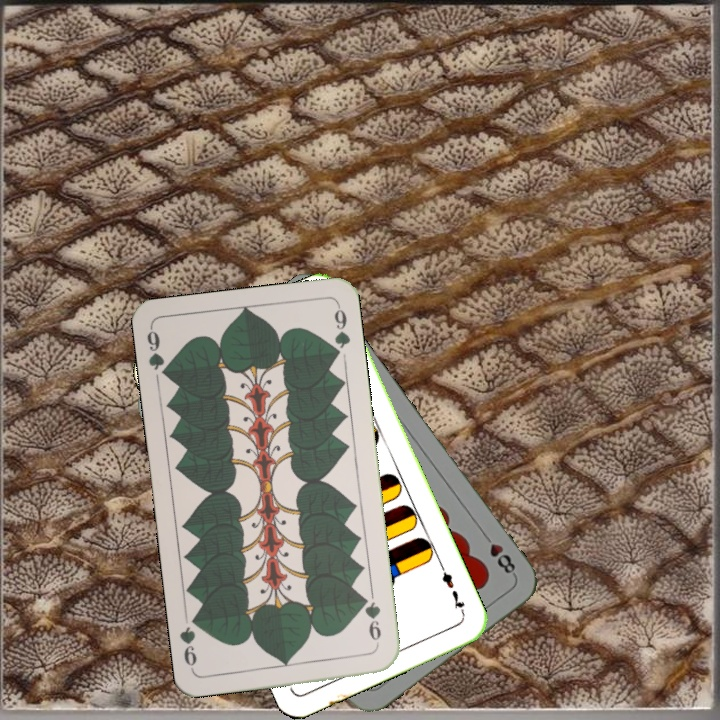E7: (436, 562, 468, 618)
G9: (142, 324, 173, 382), (359, 592, 384, 649)
H8: (478, 528, 519, 578)
